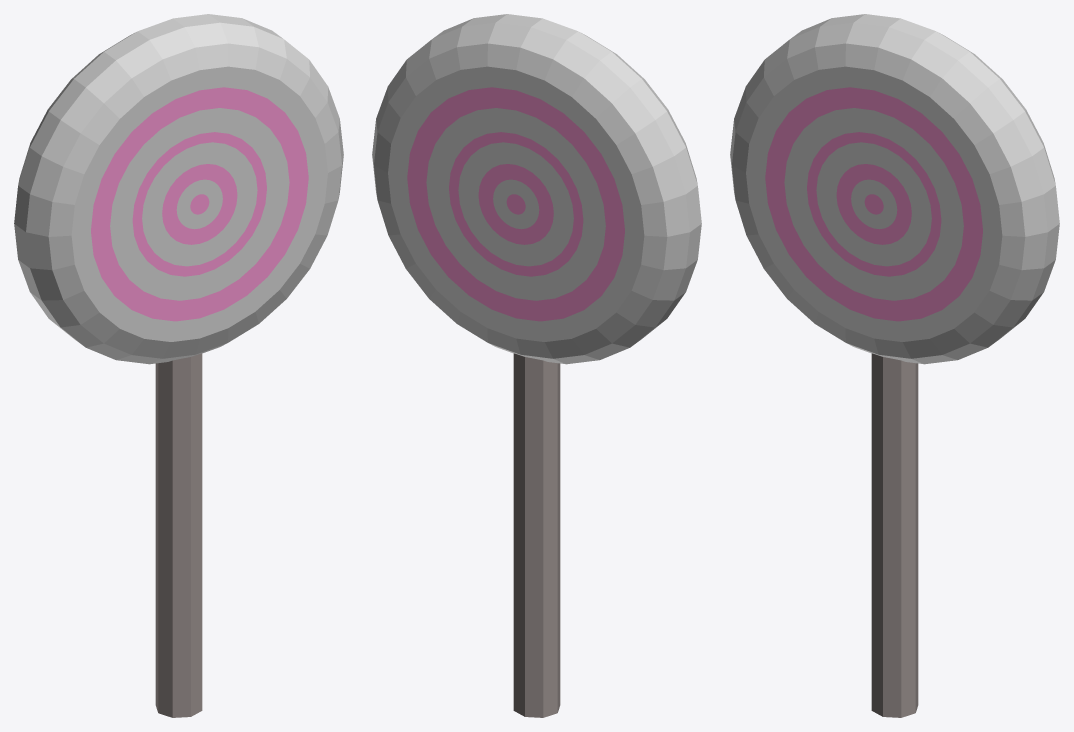
Rendered from LollipopPart.fbx.
3 renders of one model, left to right at view 1: azimuth 30°, elevation 25°; view 2: azimuth 150°, elevation 25°; view 3: azimuth 330°, elevation 25°, orthographic.
Visible parts, largest first — view 1: Lollipop; view 2: Lollipop; view 3: Lollipop.
Part boxes in pixels (x1,y1,x2,y2): Lollipop: [14, 14, 343, 717]; Lollipop: [372, 14, 701, 717]; Lollipop: [730, 14, 1059, 717].
Bounding box in the file's own units: 477 × 108 × 983.
